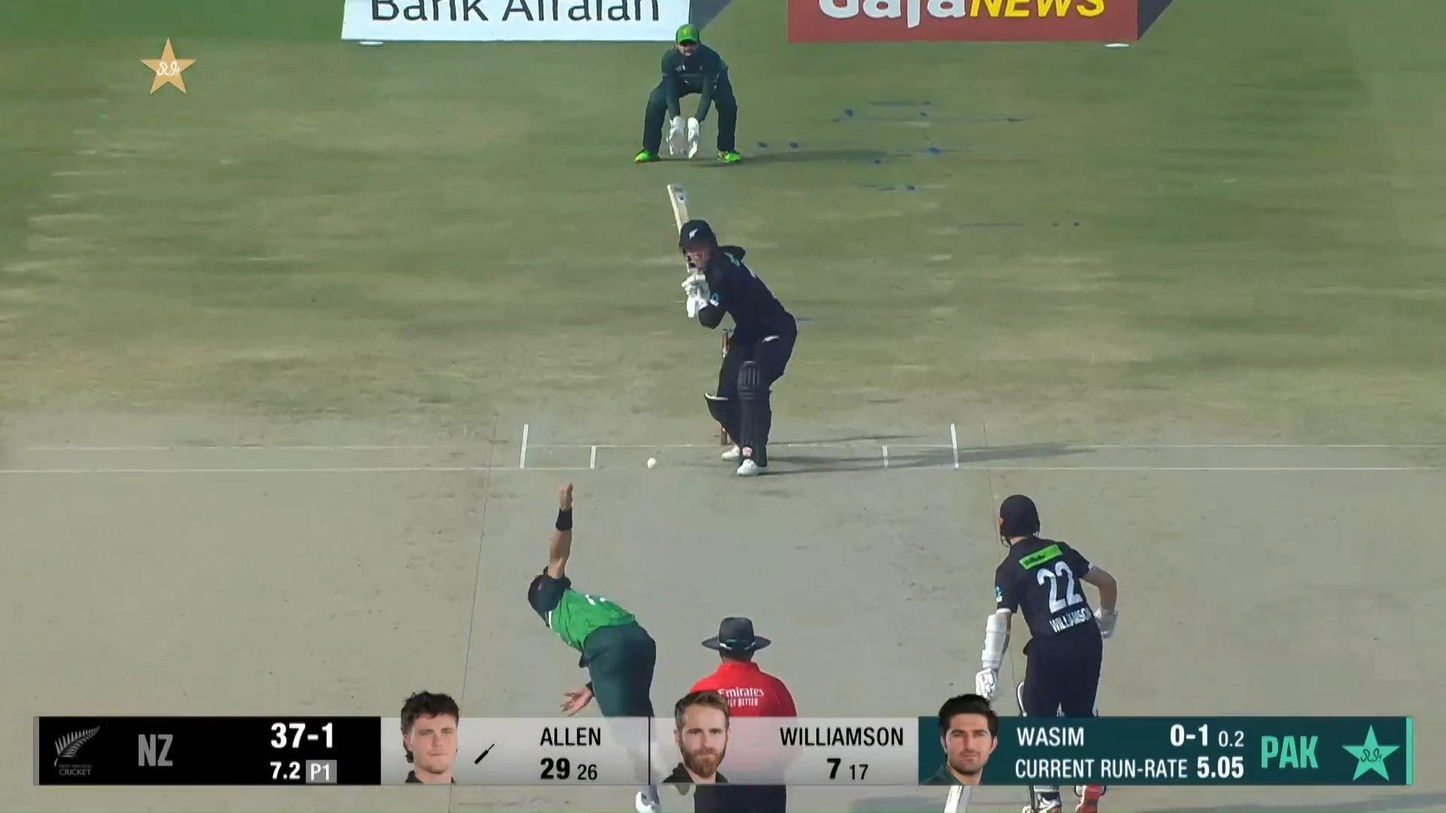BM 1: (667, 183, 798, 478)
BO: (526, 483, 691, 813)
